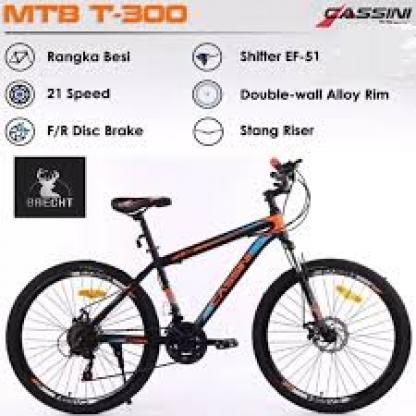Bike: (3, 155, 411, 408)
